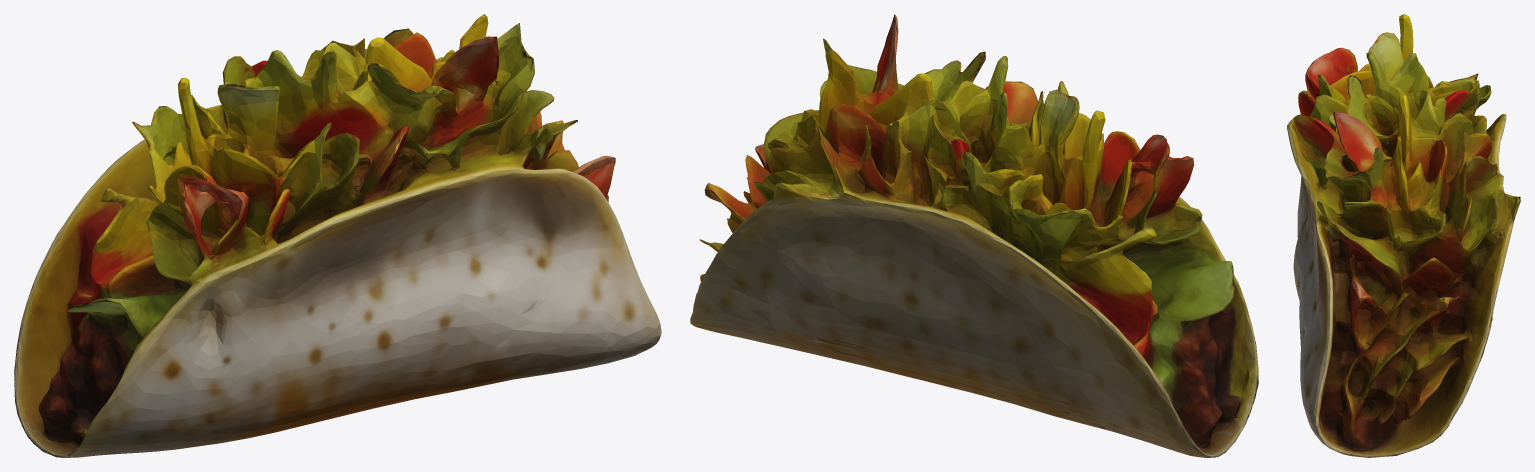
Rendered from taco.glb.
3 renders of one model, left to right at view 1: azimuth 30°, elevation 25°; view 2: azimuth 150°, elevation 25°; view 3: azimuth 270°, elevation 25°, orthographic. The views are drawn at different scales.
Parts seen in each view (by area): view 1: world; view 2: world; view 3: world.
Boxes of the visible parts, left/top/right/bottom form: world: left=14, top=14, right=661, bottom=457; world: left=690, top=14, right=1258, bottom=457; world: left=1287, top=14, right=1520, bottom=457.
Bounding box in the file's own units: 0.9951 × 0.6127 × 0.4437.
1 material, 1 textured.
